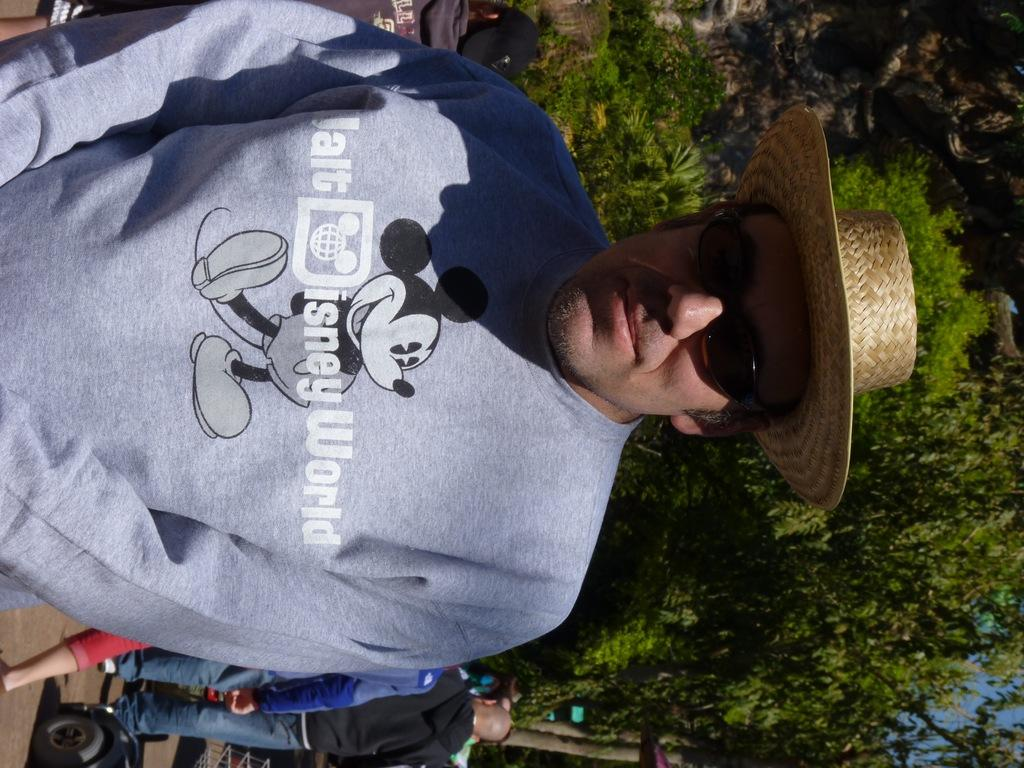Hat: (750, 100, 922, 516)
